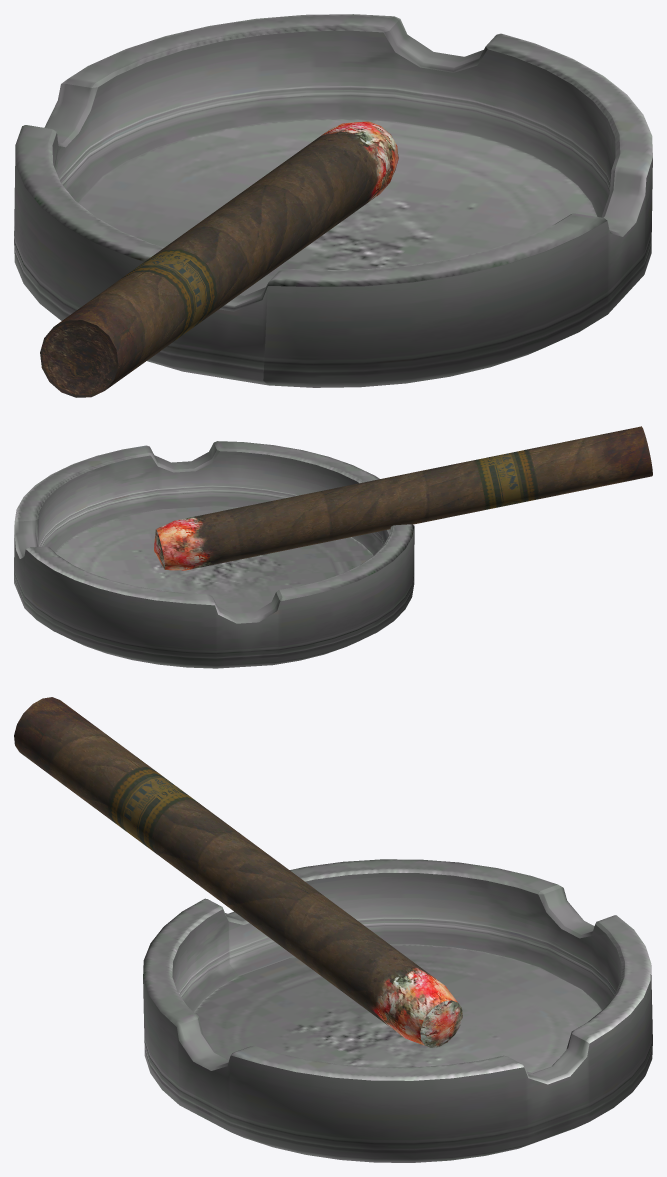
The model's file is pepelnitsa.FBX.
The picture shows the model from 3 angles, top to bottom: view 1: azimuth 30°, elevation 25°; view 2: azimuth 150°, elevation 25°; view 3: azimuth 270°, elevation 25°; orthographic projection. The views are drawn at different scales.
Visible parts, largest first — view 1: Ashray, Cigar; view 2: Ashray, Cigar; view 3: Ashray, Cigar.
Boxes of the visible parts, x1,y1,x2,y2 form: Ashray: [14, 14, 652, 387]; Cigar: [40, 121, 398, 397]; Ashray: [14, 441, 414, 668]; Cigar: [154, 426, 652, 570]; Ashray: [143, 859, 652, 1162]; Cigar: [14, 697, 462, 1047].
Size of the model in its own units: 13.85 by 3.75 by 12.18.
Materials: 2 (2 with a texture image).
